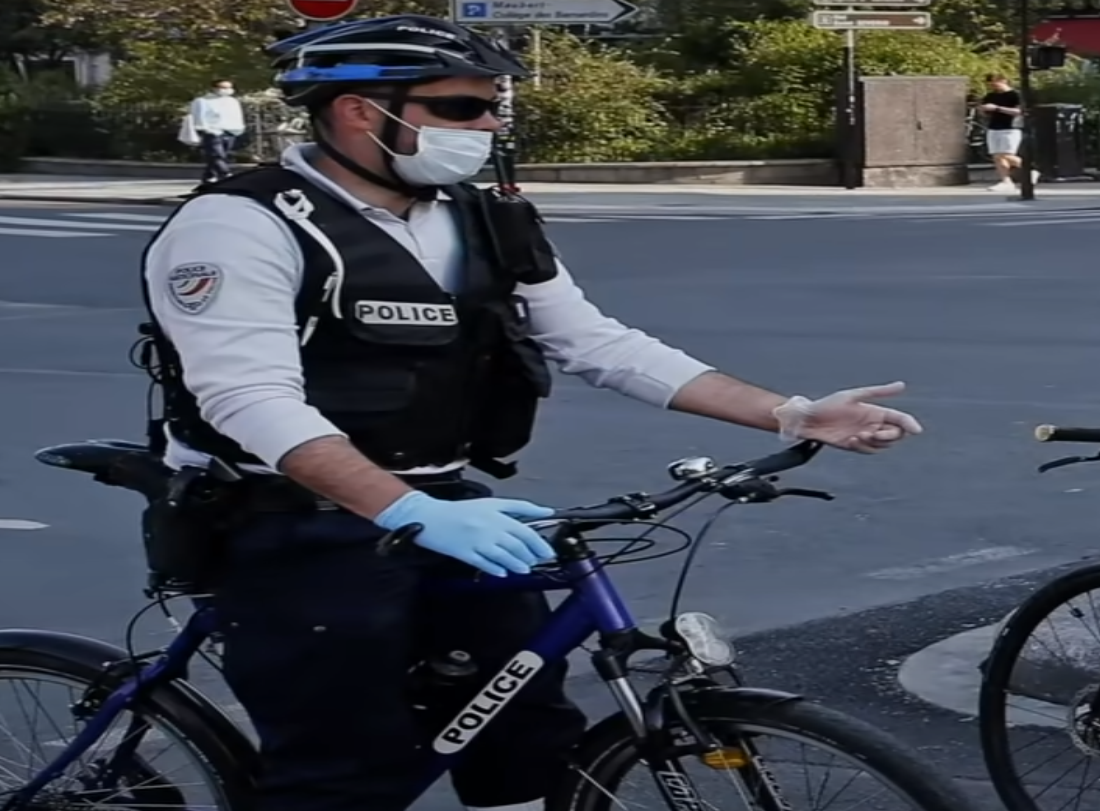mask_weared_incorrect: (288, 22, 512, 196)
